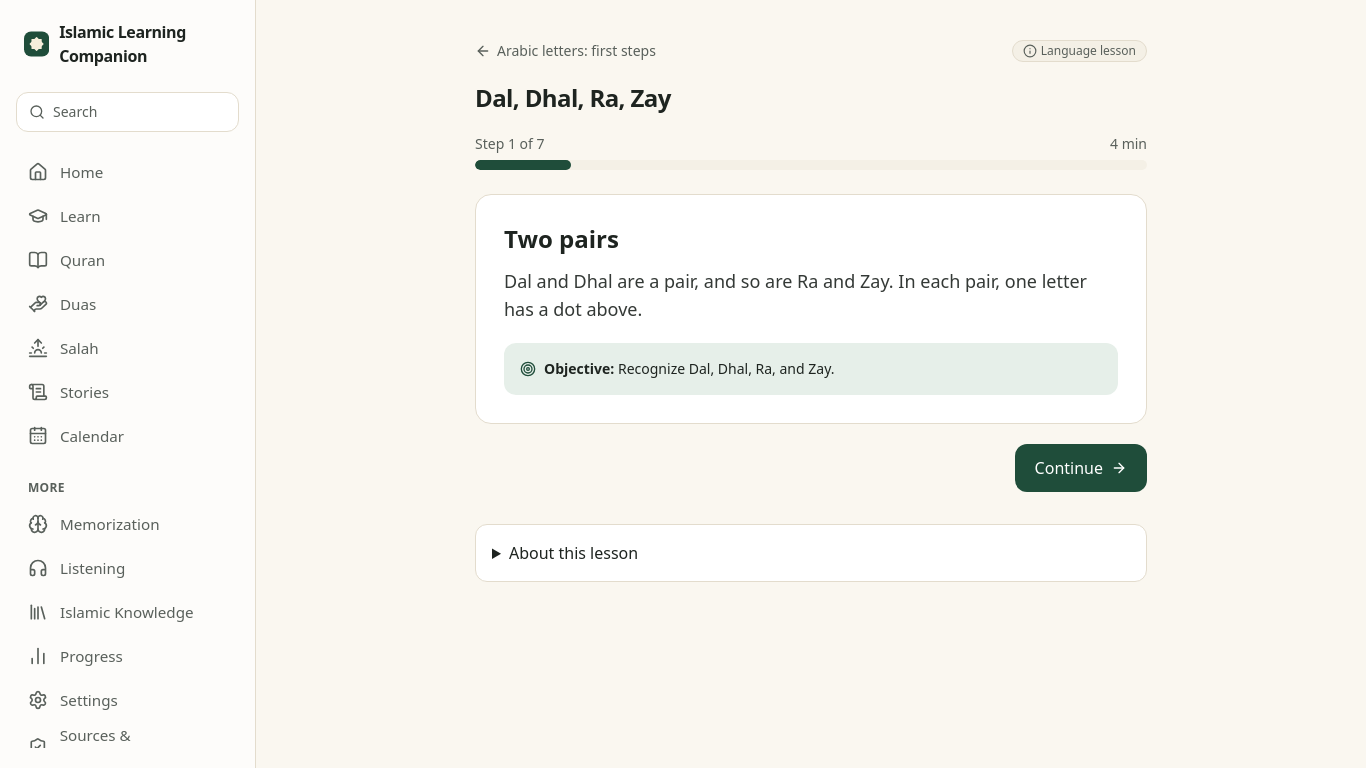
Scenario: fill-in-the-blank and multi-select › requires every correct option in a multi-select question
Expected: the heading "Dal, Dhal, Ra, Zay" is shown, 475,81 -> 671,114
Click the button "Continue" at (1081, 468), box 1015,444 -> 1147,492
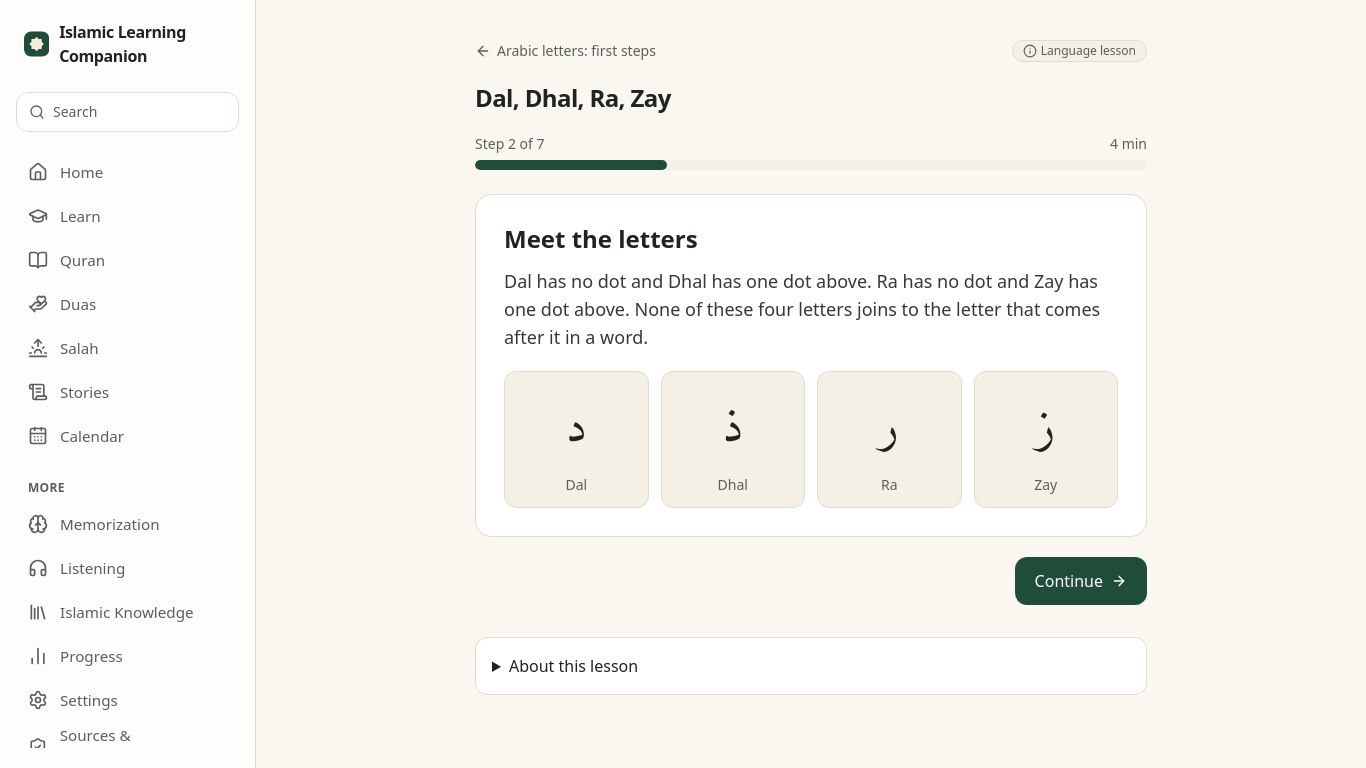
Click the button "Continue" at (1081, 581), box 1015,557 -> 1147,605
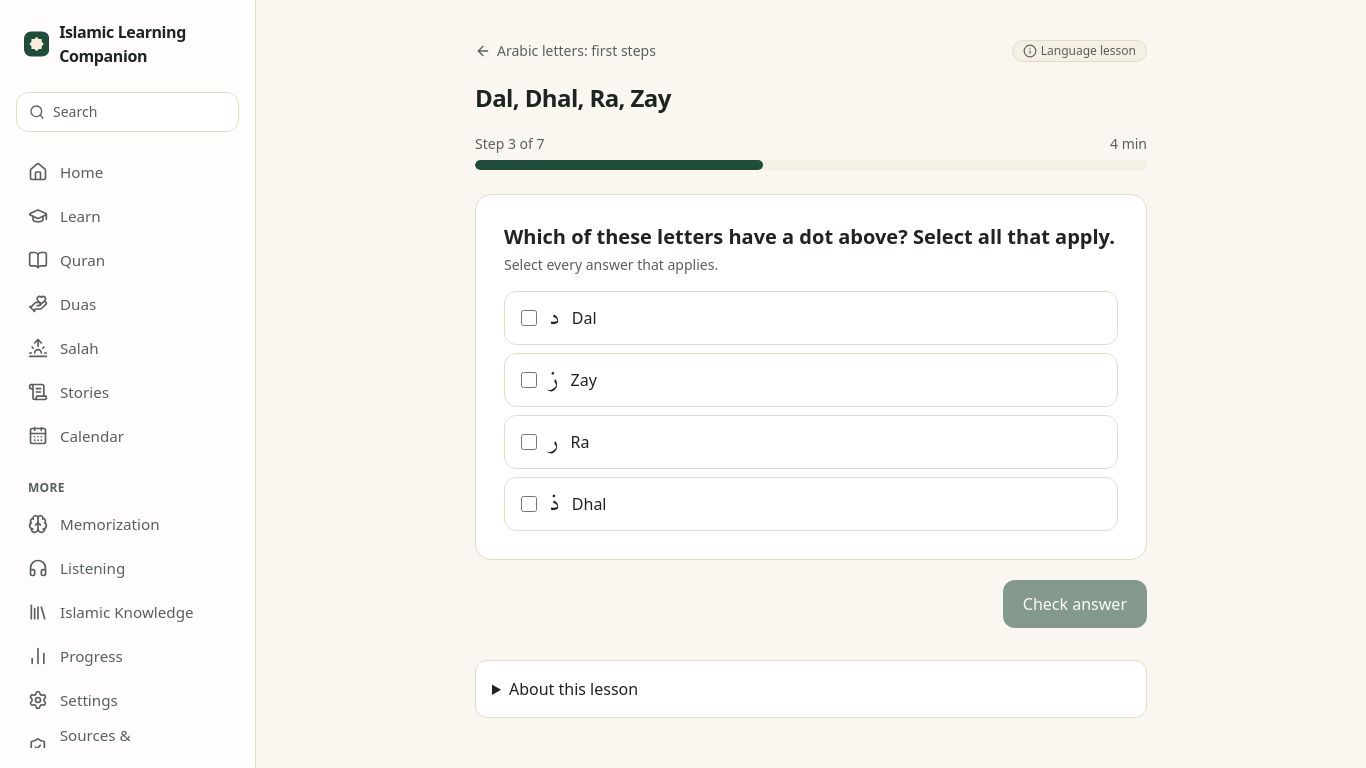
Result: the text "Select every answer that applies." is shown at 504,255 -> 718,274
Click the checkbox labelled "ذ Dhal" at (529, 504), box 521,496 -> 537,512
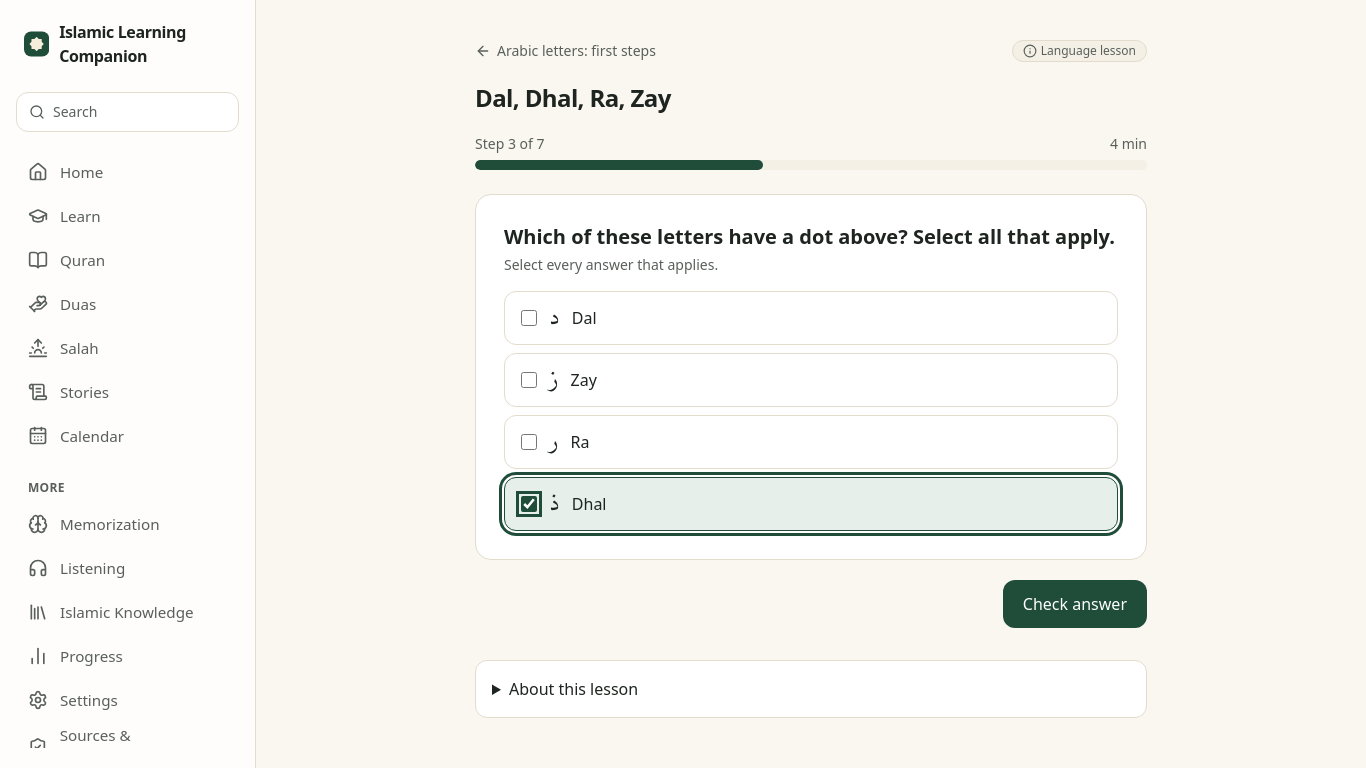
Click the button "Check answer" at (1075, 604), box 1003,580 -> 1147,628
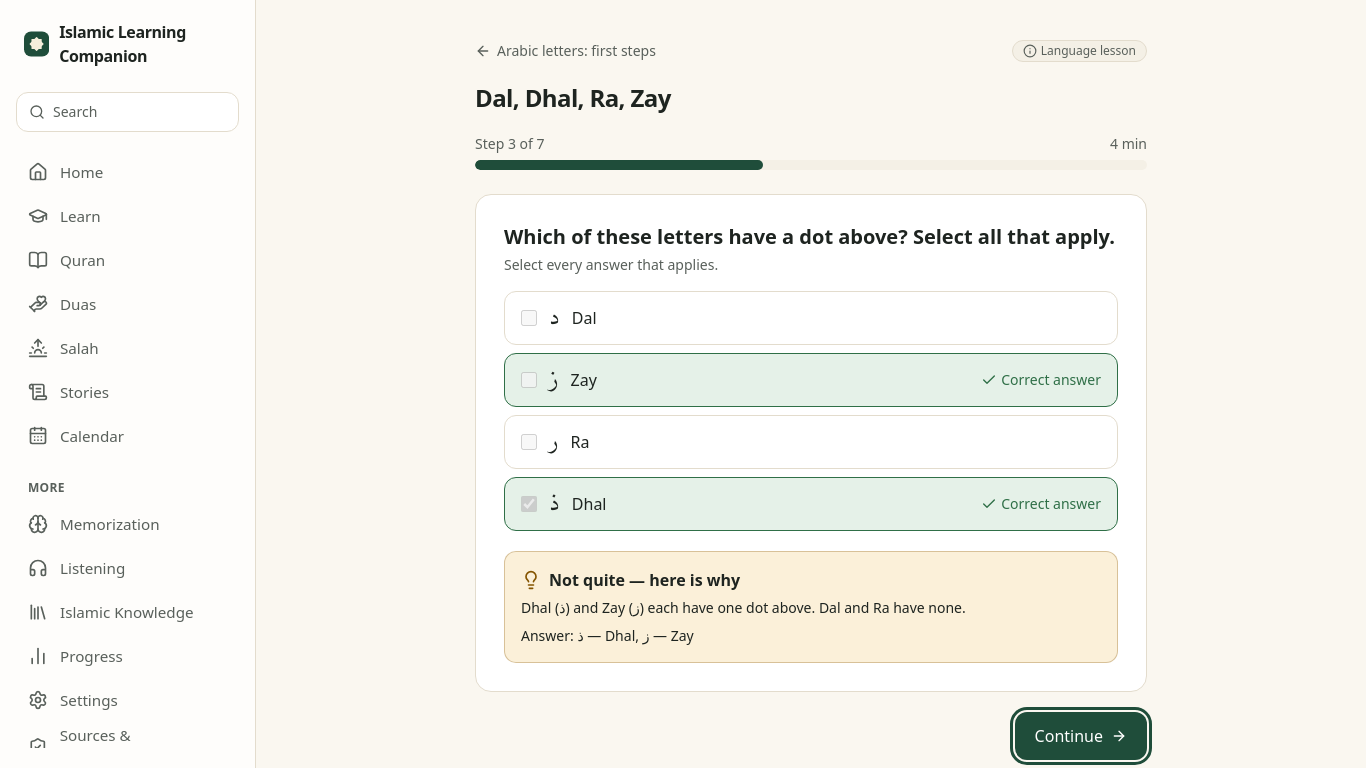
Result: the text "Not quite — here is why" is shown at 521,569 -> 740,591
Result: the text "Dhal (ذ) and Zay (ز) each have one dot above" is shown at 521,598 -> 966,617
